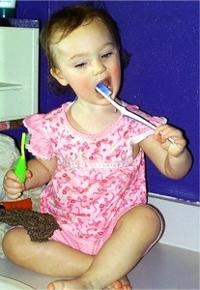person: (3, 4, 195, 290)
